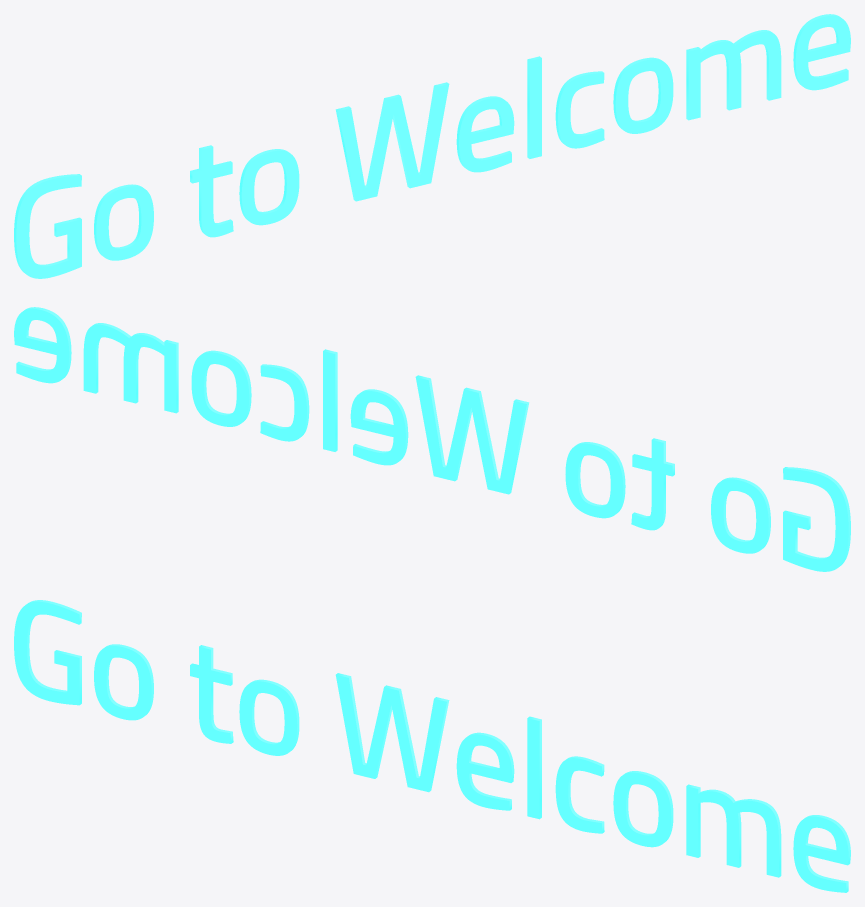
Rendered from FTUE-welcome-sign.fbx.
The picture shows the model from 3 angles, top to bottom: view 1: azimuth 30°, elevation 25°; view 2: azimuth 150°, elevation 25°; view 3: azimuth 330°, elevation 25°; orthographic projection.
Visible parts, largest first — view 1: Text; view 2: Text; view 3: Text.
Boxes of the visible parts, left/top/right/bottom form: Text: left=14, top=14, right=850, bottom=278; Text: left=14, top=307, right=850, bottom=571; Text: left=14, top=600, right=850, bottom=892.
Size of the model in its own units: 376 by 42.96 by 1.8.
